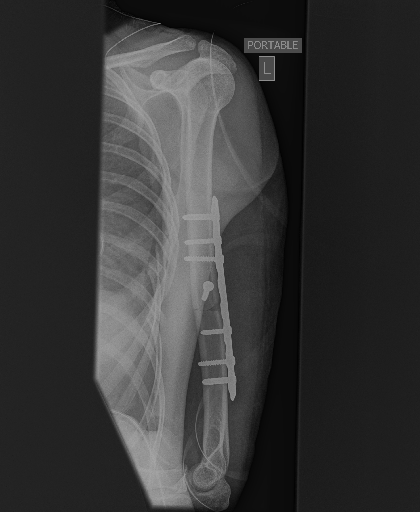implant: (183, 194, 241, 402)
